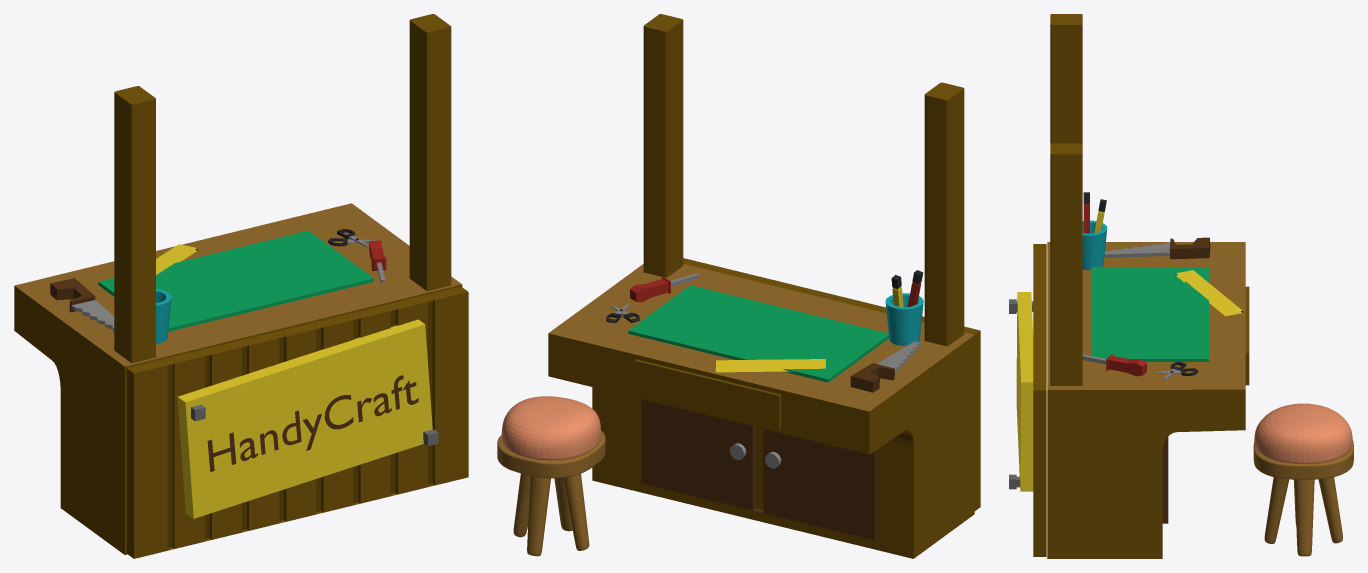
3 renders of one model, left to right at view 1: azimuth 30°, elevation 25°; view 2: azimuth 150°, elevation 25°; view 3: azimuth 270°, elevation 25°, orthographic. The views are drawn at different scales.
Visible parts, largest first — view 1: Meja; view 2: Meja; view 3: Meja.
Boxes of the visible parts, left/top/right/bottom form: Meja: left=14, top=14, right=468, bottom=558; Meja: left=497, top=14, right=980, bottom=558; Meja: left=1009, top=14, right=1353, bottom=558.
Bounding box in the file's own units: 615 × 755 × 588.
